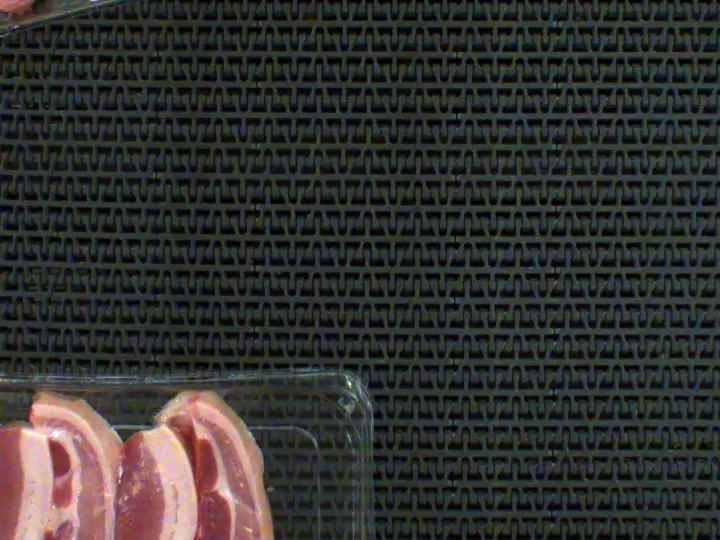packaging-error: (0, 362, 248, 442)
